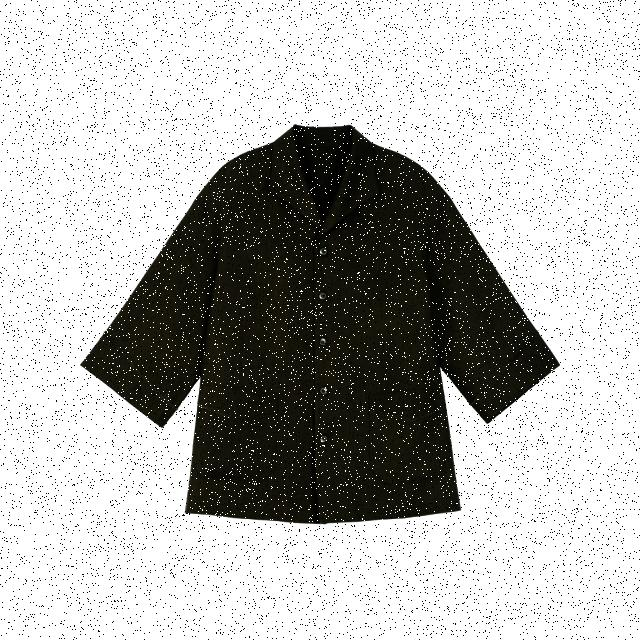dress: (87, 127, 561, 512)
